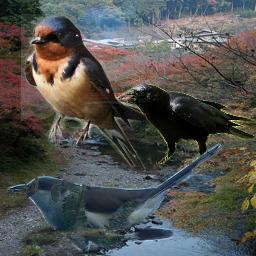Crow: (115, 84, 254, 164)
Cuckoo: (6, 142, 228, 253)
Swallow: (21, 14, 146, 172)
